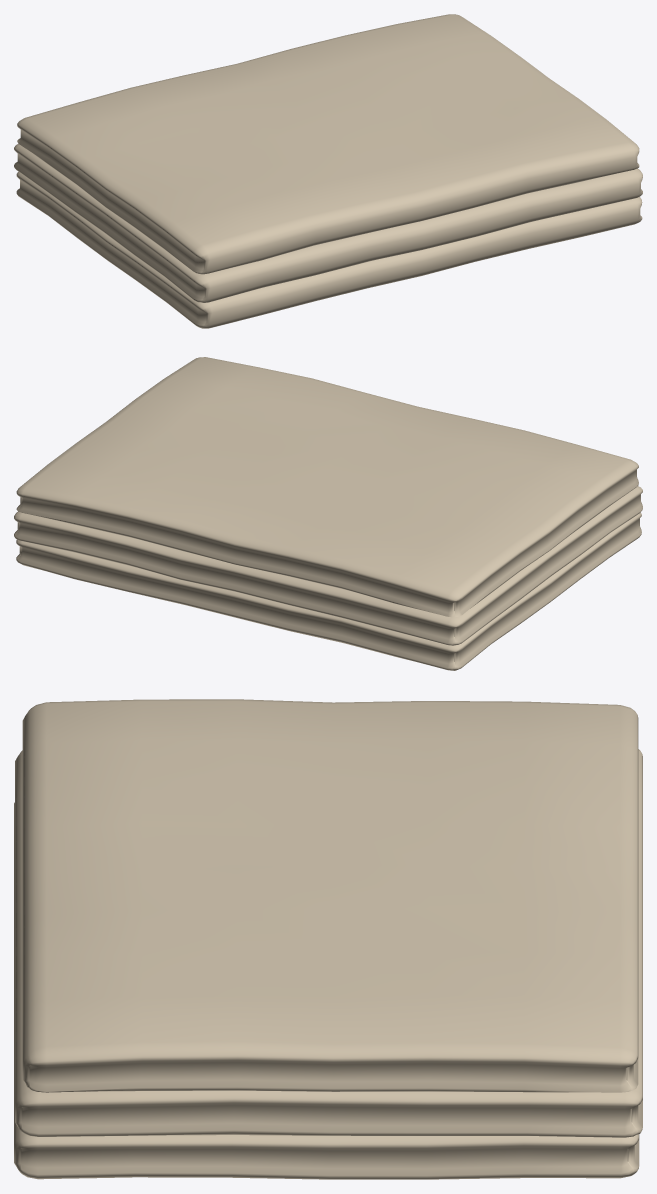
File: blanket.glb
3 views of the same model, one above another, from view 1: azimuth 30°, elevation 25°; view 2: azimuth 150°, elevation 25°; view 3: azimuth 270°, elevation 25° (orthographic). The views are drawn at different scales.
Visible parts, largest first — view 1: folded_blanket_soft; view 2: folded_blanket_soft; view 3: folded_blanket_soft.
Part boxes in pixels (x1,y1,x2,y2): folded_blanket_soft: (14, 14, 642, 328); folded_blanket_soft: (14, 357, 642, 670); folded_blanket_soft: (14, 699, 642, 1179).
Size of the model in its own units: 0.4543 by 0.0828 by 0.337.
